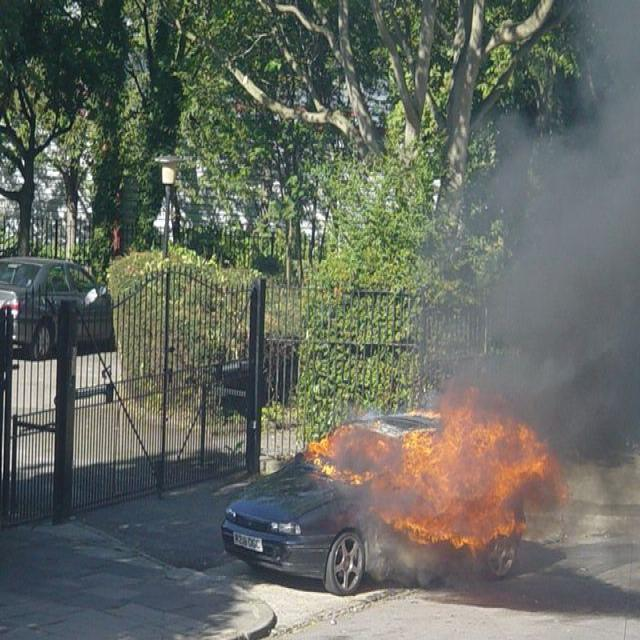Fire: (308, 384, 562, 550)
Smoke: (363, 0, 639, 599)
